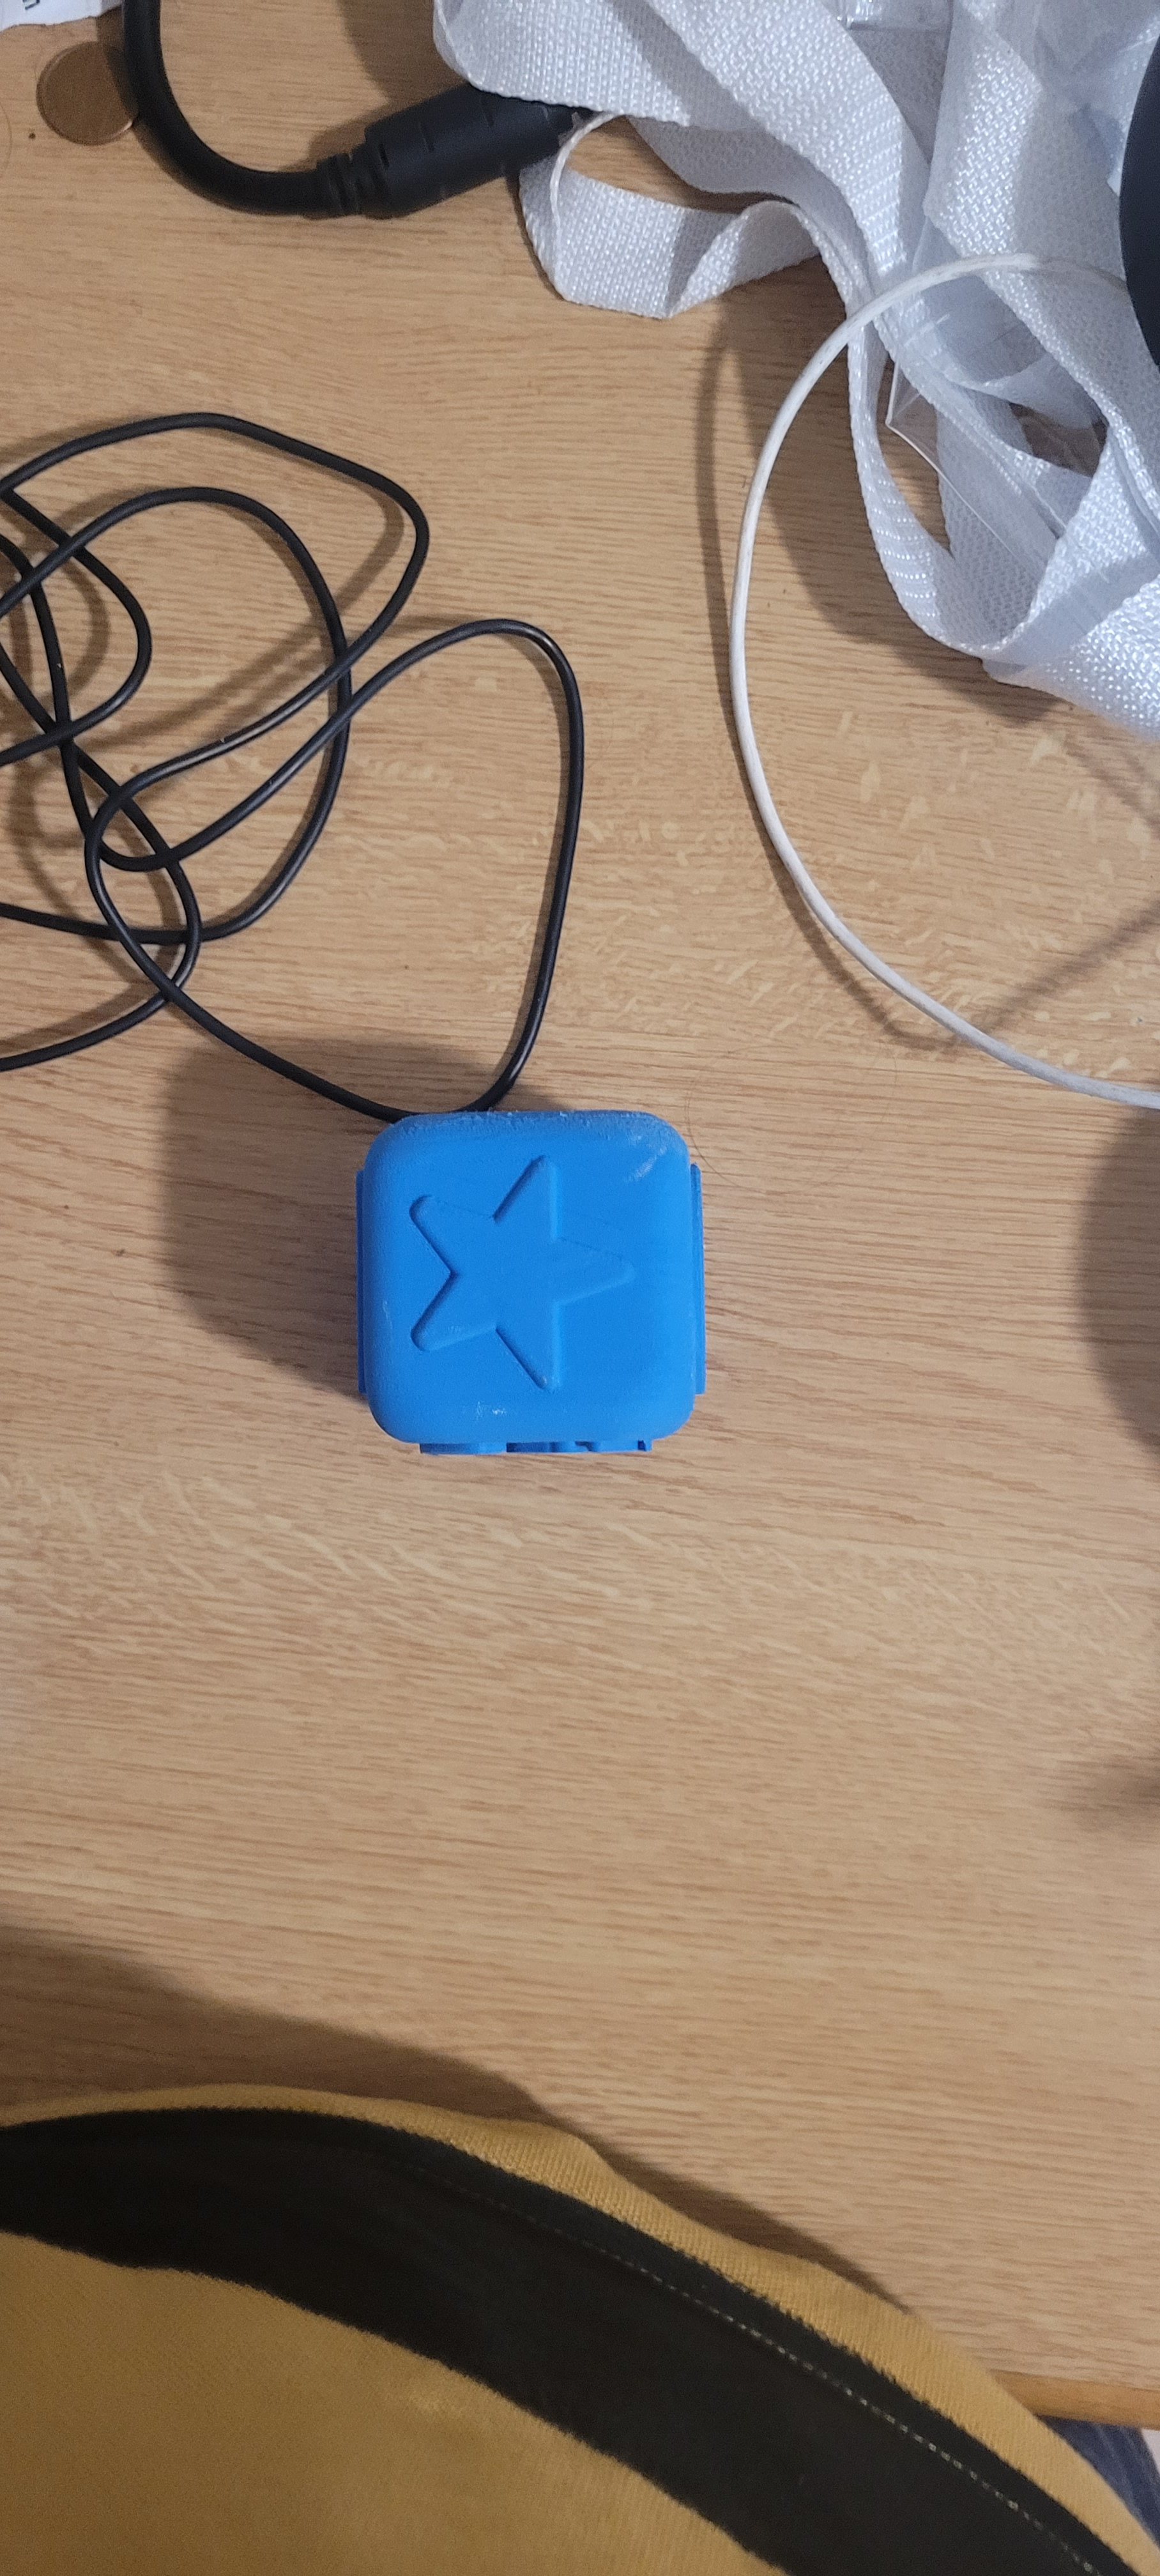Star: (380, 1125, 672, 1437)
